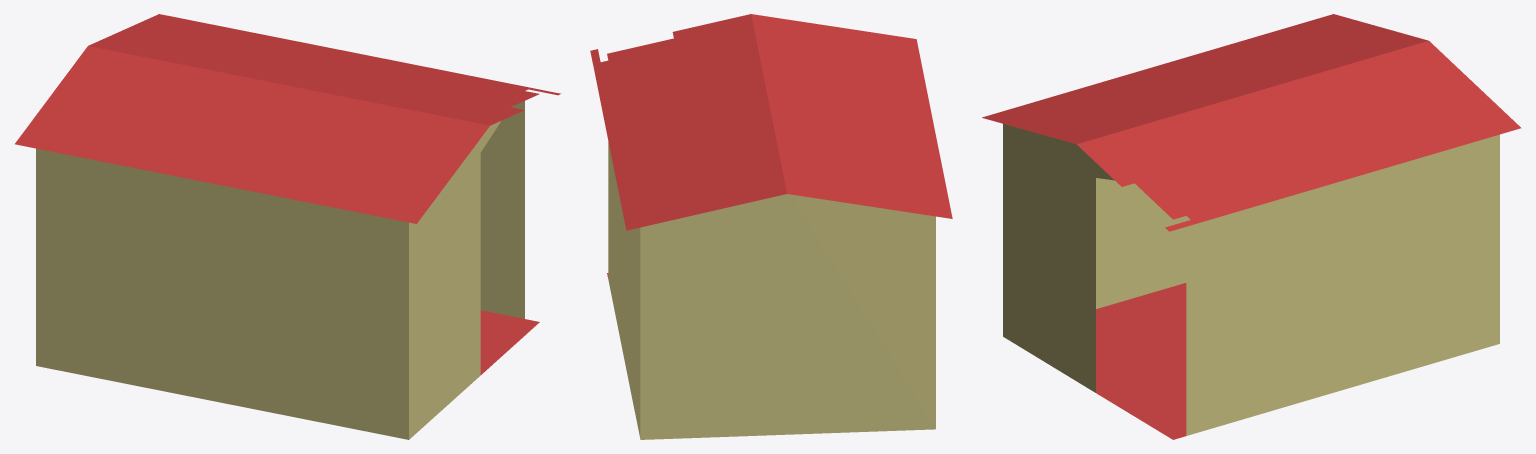
3 renders of one model, left to right at view 1: azimuth 30°, elevation 25°; view 2: azimuth 150°, elevation 25°; view 3: azimuth 270°, elevation 25°, orthographic. The views are drawn at different scales.
Size of the model in its own units: 16.59 by 17.39 by 8.82.
